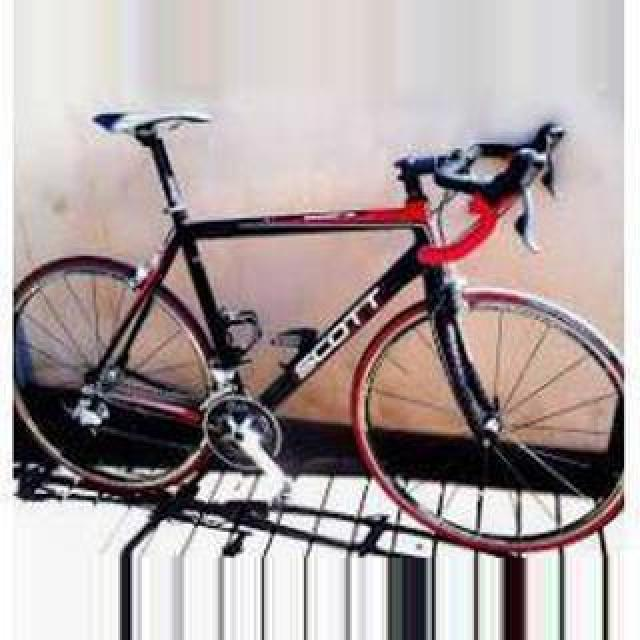Person: (14, 104, 632, 554)
